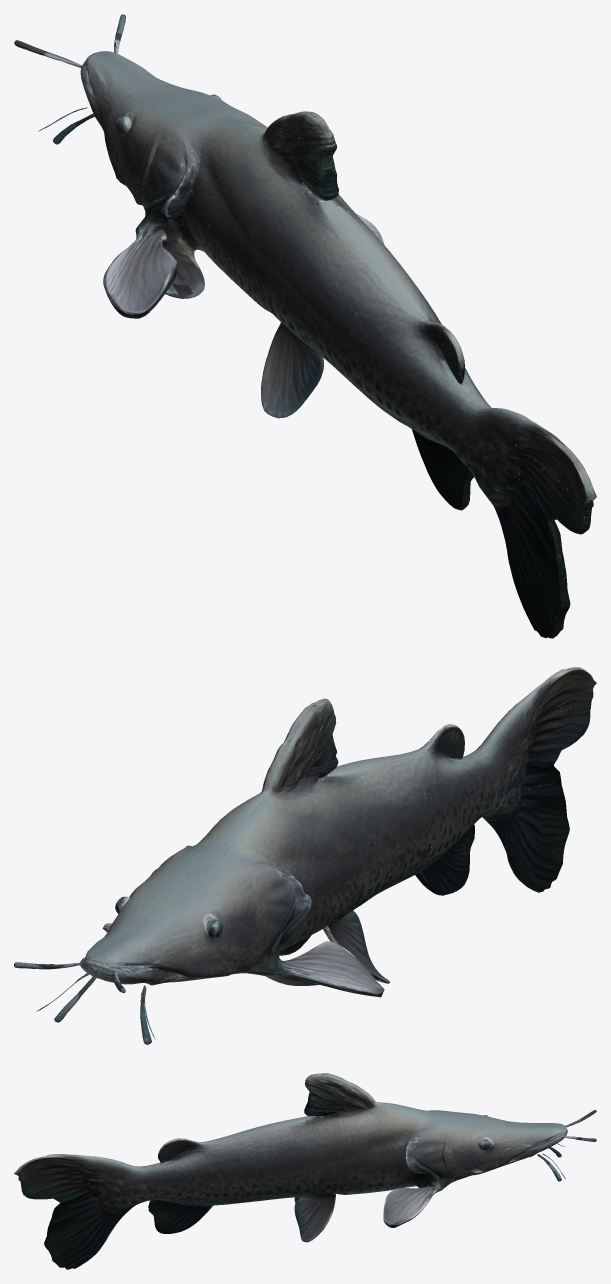
File: surubi_pintado.glb
3 views of the same model, one above another, from view 1: azimuth 30°, elevation 25°; view 2: azimuth 150°, elevation 25°; view 3: azimuth 270°, elevation 25° (orthographic). The views are drawn at different scales.
Parts seen in each view (by area): view 1: tripo_node_0b54dccf-a887-4eb8-a519-a7f9ea4f25e3; view 2: tripo_node_0b54dccf-a887-4eb8-a519-a7f9ea4f25e3; view 3: tripo_node_0b54dccf-a887-4eb8-a519-a7f9ea4f25e3.
Part boxes in pixels (bbox=[...]): tripo_node_0b54dccf-a887-4eb8-a519-a7f9ea4f25e3: bbox=[14, 14, 596, 638]; tripo_node_0b54dccf-a887-4eb8-a519-a7f9ea4f25e3: bbox=[14, 667, 596, 1044]; tripo_node_0b54dccf-a887-4eb8-a519-a7f9ea4f25e3: bbox=[14, 1073, 596, 1269].
Size of the model in its own units: 0.2943 by 0.3705 by 1.
Materials: 1 (1 with a texture image).
